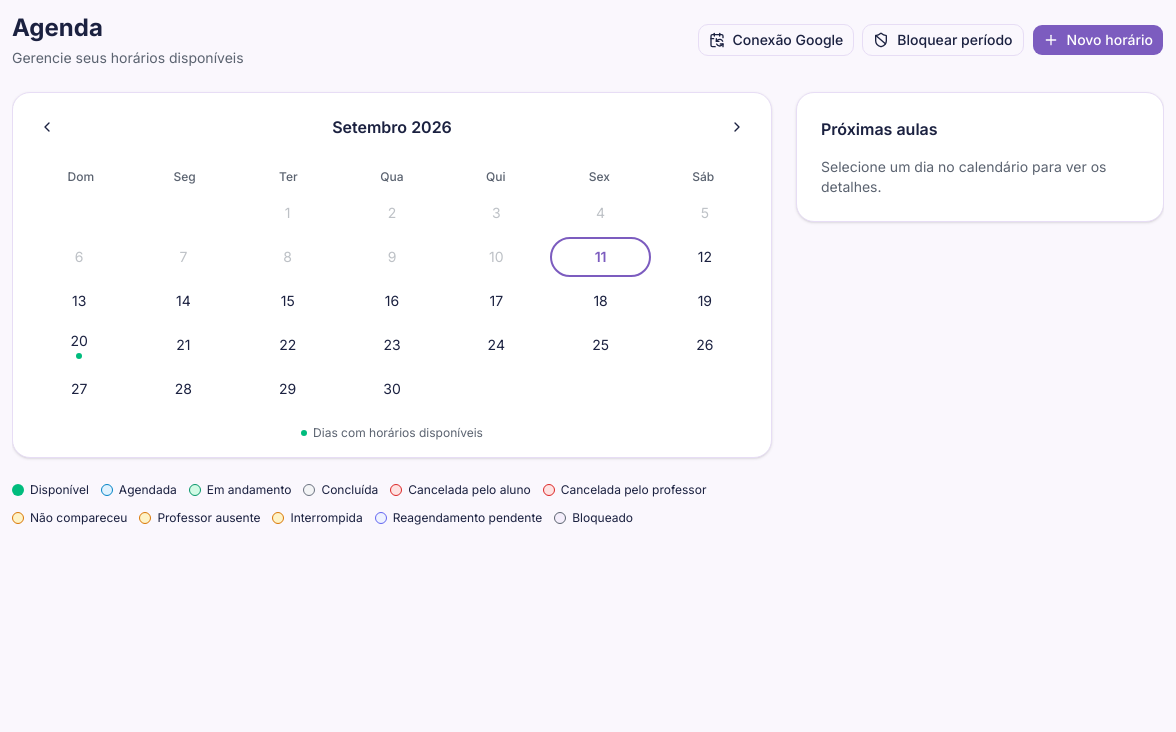
Test case: AdminScheduleClient - fuso do professor (GAP-08) › RED: W2 horario do slot aparece no fuso do professor
Click the cell "20".
click(79, 345)  # box [29,325,129,365]
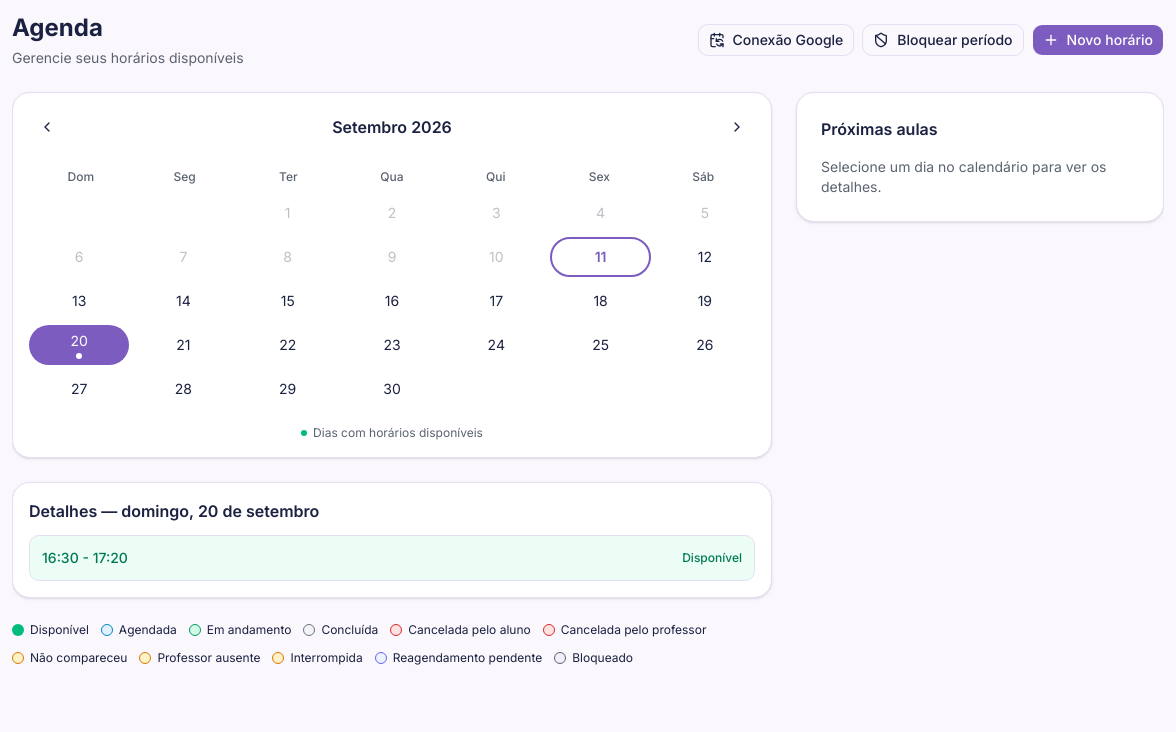
Expected: the button with test id "admin-calendar-slot-slot-w2" shows "16:30", [29,535,755,581]
